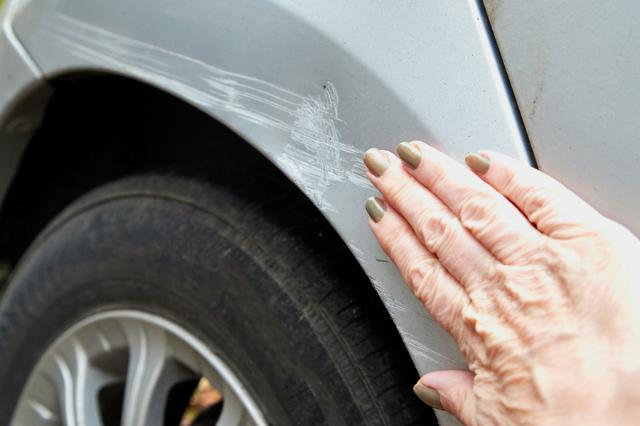Fender: (2, 0, 419, 206)
